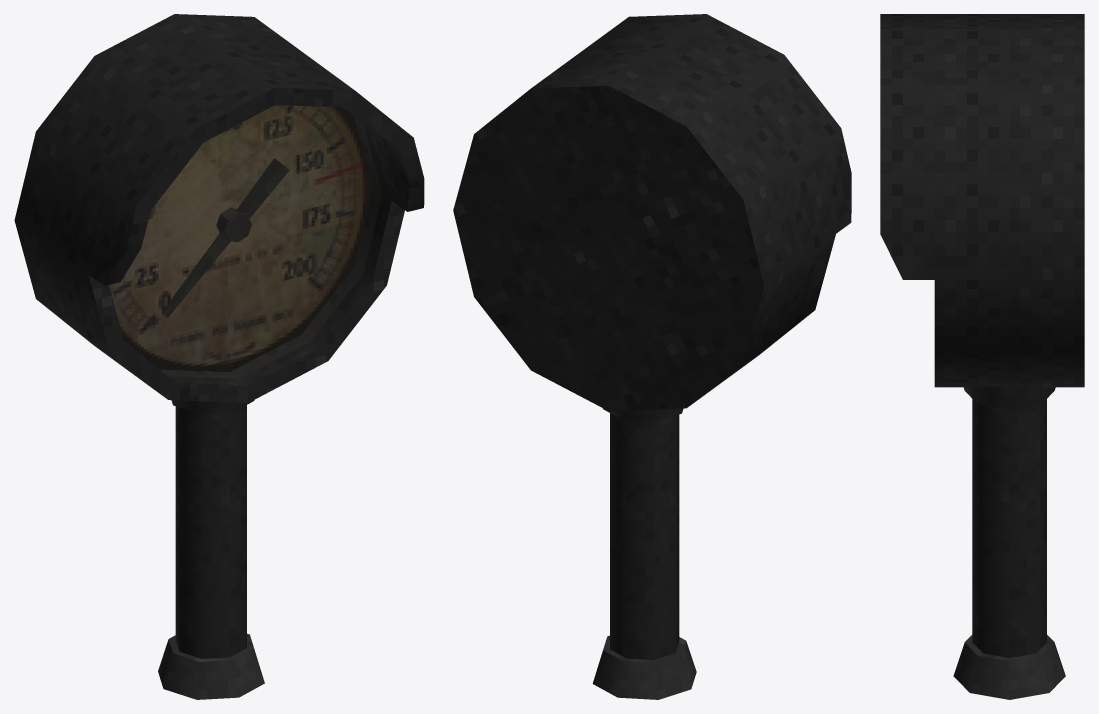
File: gauge_etx_2.glb
3 renders of one model, left to right at view 1: azimuth 30°, elevation 25°; view 2: azimuth 150°, elevation 25°; view 3: azimuth 270°, elevation 25°, orthographic. The views are drawn at different scales.
Visible parts, largest first — view 1: gauge_etx_2, gauge_pointer_etx_2_child; view 2: gauge_etx_2; view 3: gauge_etx_2.
Boxes of the visible parts, left/top/right/bottom form: gauge_etx_2: left=14, top=14, right=424, bottom=699; gauge_pointer_etx_2_child: left=161, top=158, right=289, bottom=317; gauge_etx_2: left=453, top=14, right=851, bottom=699; gauge_etx_2: left=880, top=14, right=1084, bottom=699.
Size of the model in its own units: 0.2 by 0.38 by 0.109.
Materials: 3 (3 with a texture image).
